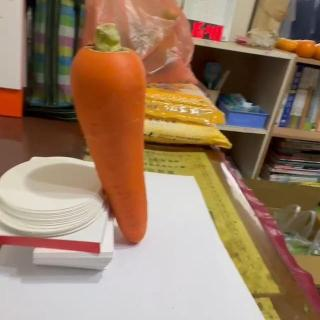carrot: (71, 23, 148, 247)
